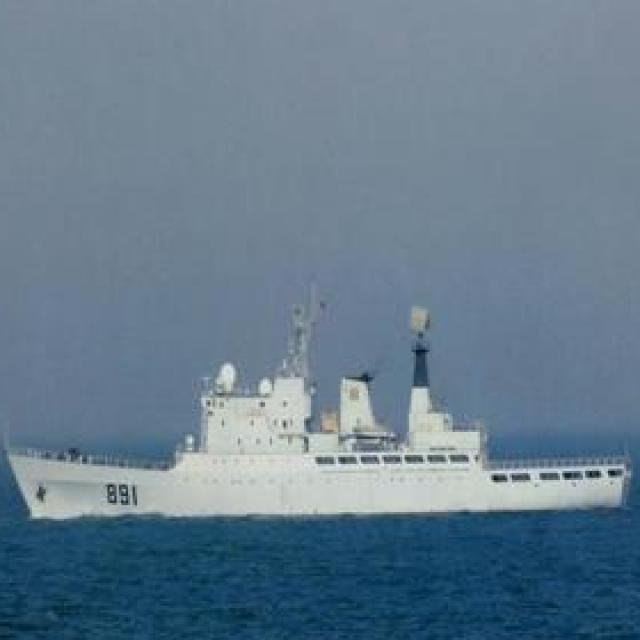navalvessels: (3, 292, 634, 520)
